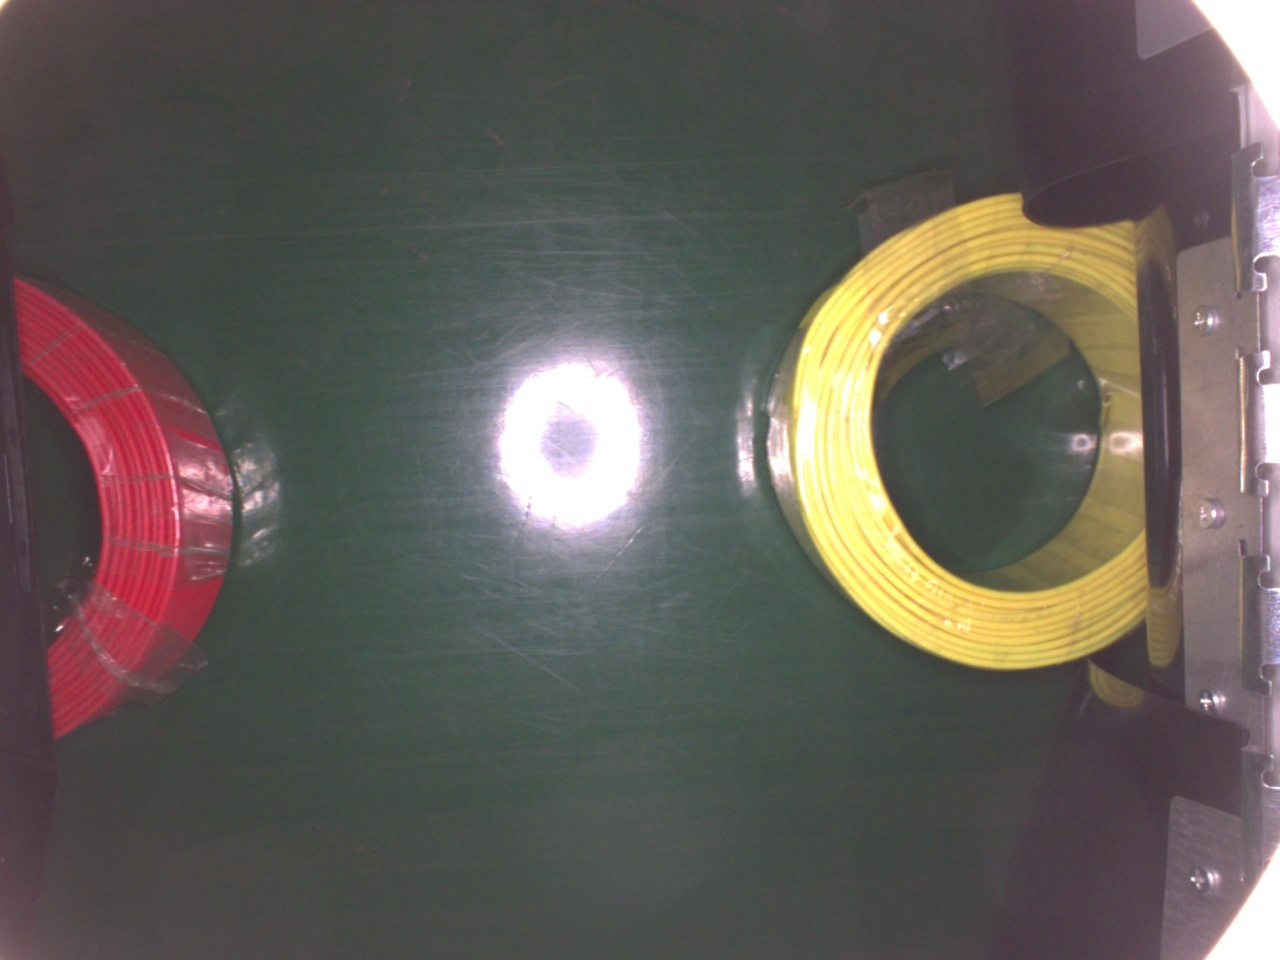red: (0, 268, 227, 741)
yellow: (760, 190, 1147, 676)
